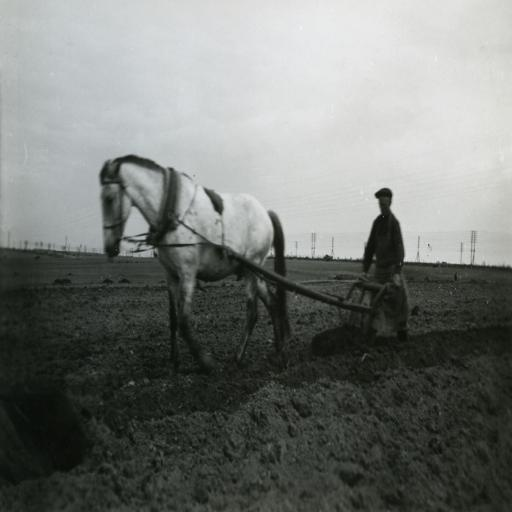Horse: (98, 153, 288, 376)
